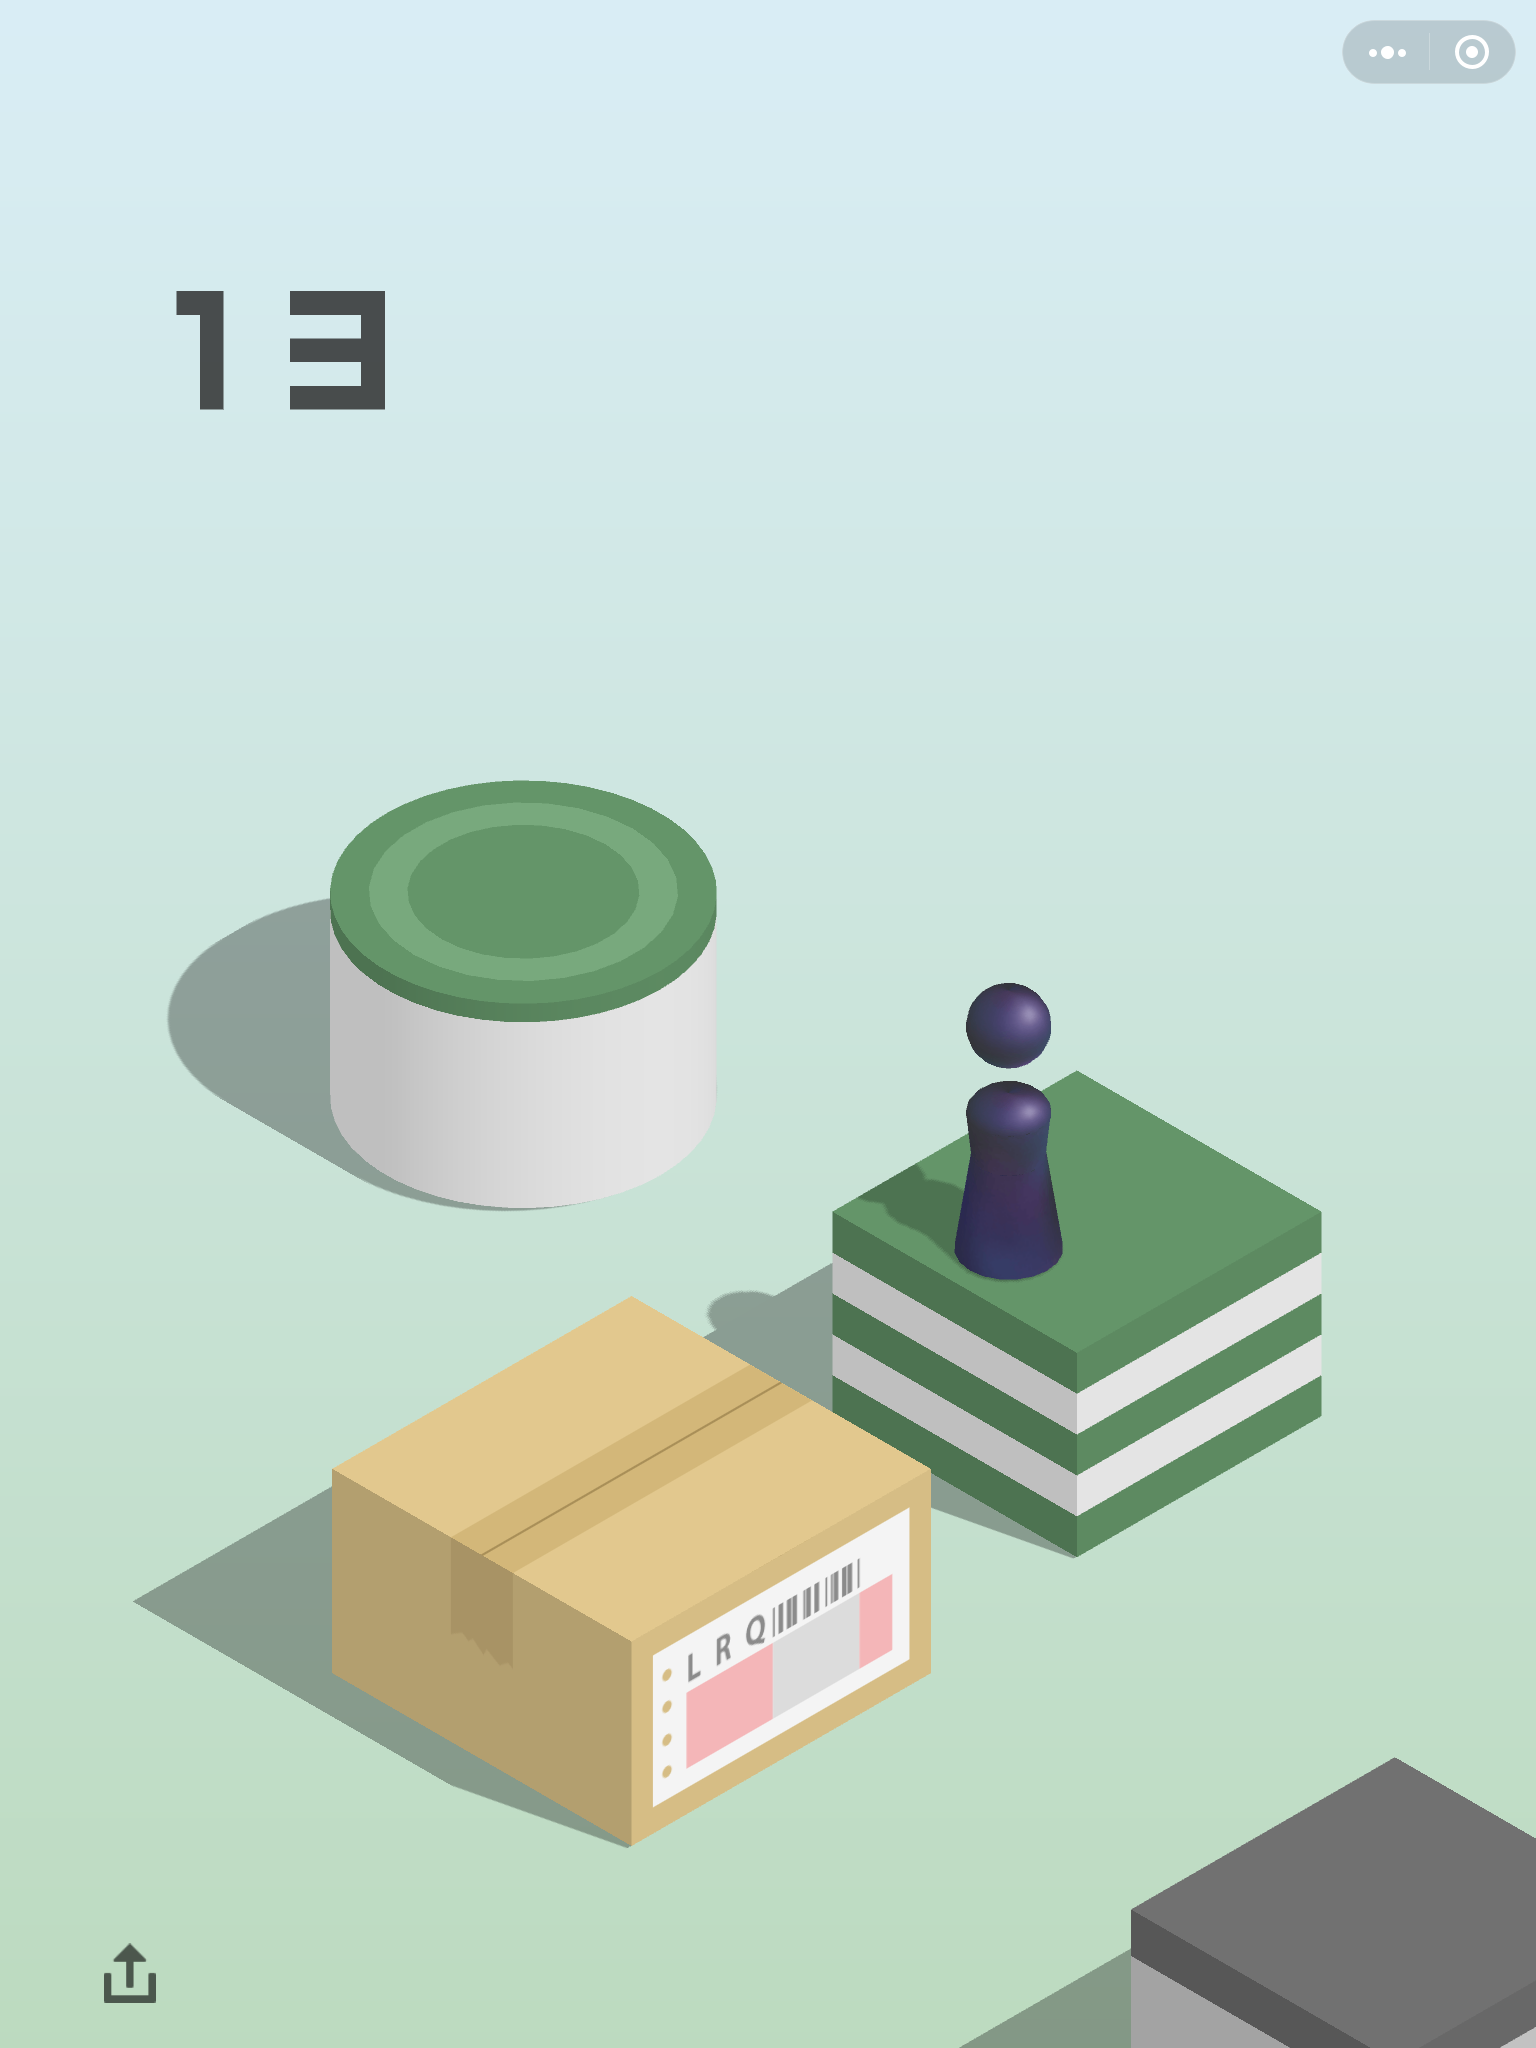c: (318, 772, 736, 1224)
f: (311, 1288, 954, 1856), (824, 1063, 1329, 1567), (1129, 1755, 1536, 2045)
r: (949, 980, 1078, 1292)
